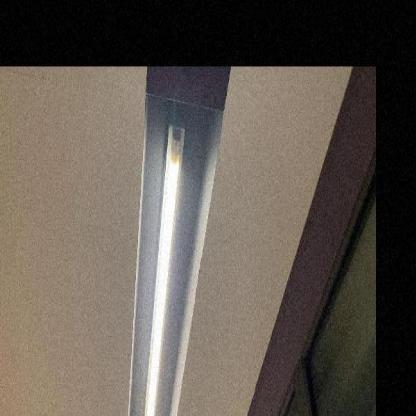light_on: (132, 112, 186, 415)
